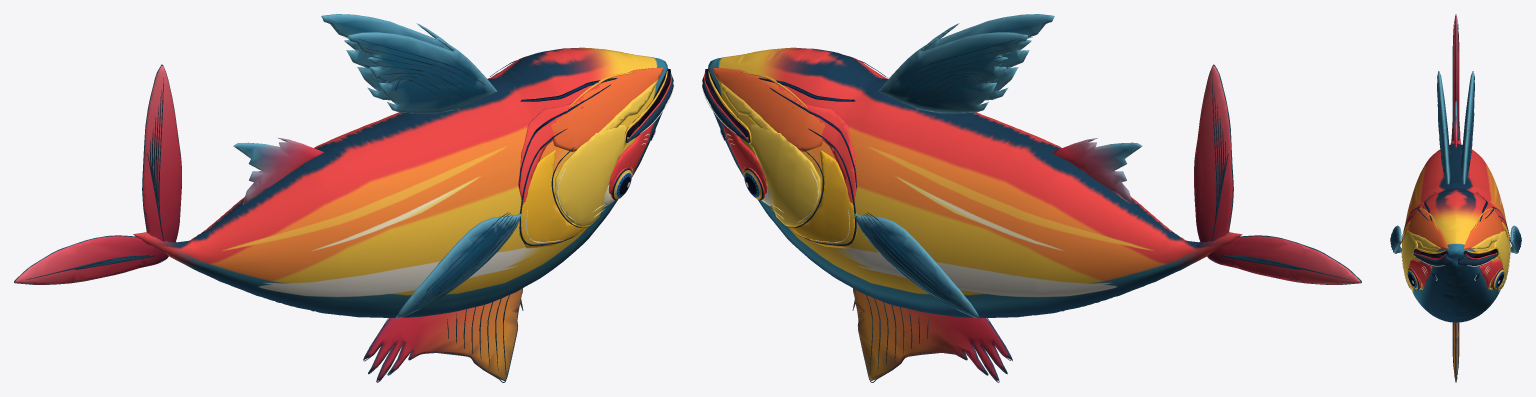
File: hero-tuna.mobile.glb
The picture shows the model from 3 angles, left to right: view 1: azimuth 30°, elevation 25°; view 2: azimuth 150°, elevation 25°; view 3: azimuth 270°, elevation 25°; orthographic projection. The views are drawn at different scales.
Visible parts, largest first — view 1: Web Painted body, Web Painted fin membranes, Web Painted fin membranes.001, Web Anatomy operculum, Web Anatomy jaw, Web Anatomy suboperculum, Web Fin ray pigment, Web Anatomy membrane, Web Anatomy ink, Web Fin ray pigment.001, Web Anatomy brow, Web Glazed fin edges.001 (+1 smaller); view 2: Web Painted body, Web Painted fin membranes, Web Painted fin membranes.001, Web Anatomy operculum, Web Anatomy jaw, Web Anatomy suboperculum, Web Fin ray pigment, Web Anatomy membrane, Web Anatomy ink, Web Fin ray pigment.001, Web Anatomy brow, Web Glazed fin edges.001 (+1 smaller); view 3: Web Painted body, Web Painted fin membranes, Web Anatomy jaw, Web Anatomy operculum, Web Fin ray pigment, Web Anatomy brow, Web Painted fin membranes.001, Web Anatomy maxilla, Web Anatomy ink, Web Anatomy gold, Web Anatomy mouth, Web Anatomy membrane (+6 smaller).
Part boxes in pixels (x1,y1,x2,y2): Web Painted body: (133, 47, 668, 317); Web Painted fin membranes: (233, 14, 523, 381); Web Painted fin membranes.001: (15, 66, 181, 284); Web Anatomy operculum: (555, 124, 628, 226); Web Anatomy jaw: (551, 67, 663, 151); Web Anatomy suboperculum: (519, 149, 586, 248); Web Fin ray pigment: (345, 37, 518, 375); Web Anatomy membrane: (518, 86, 599, 204); Web Anatomy ink: (490, 60, 655, 245); Web Fin ray pigment.001: (26, 78, 164, 279); Web Anatomy brow: (609, 123, 653, 199); Web Glazed fin edges.001: (14, 64, 181, 284); Web Painted body: (708, 47, 1242, 317); Web Painted fin membranes: (852, 14, 1142, 381); Web Painted fin membranes.001: (1194, 66, 1360, 284); Web Anatomy operculum: (747, 124, 820, 226); Web Anatomy jaw: (712, 67, 825, 151); Web Anatomy suboperculum: (789, 149, 856, 248); Web Fin ray pigment: (857, 37, 1032, 374); Web Anatomy membrane: (778, 86, 857, 204); Web Anatomy ink: (720, 60, 887, 245); Web Fin ray pigment.001: (1211, 77, 1349, 279); Web Anatomy brow: (722, 123, 766, 199); Web Glazed fin edges.001: (1194, 64, 1361, 284); Web Painted body: (1405, 122, 1506, 322); Web Painted fin membranes: (1391, 71, 1521, 381); Web Anatomy jaw: (1407, 209, 1504, 248); Web Anatomy operculum: (1402, 231, 1509, 289); Web Fin ray pigment: (1390, 77, 1521, 378); Web Anatomy brow: (1408, 259, 1502, 288); Web Painted fin membranes.001: (1453, 15, 1459, 130); Web Anatomy maxilla: (1414, 254, 1497, 266); Web Anatomy ink: (1401, 192, 1510, 289); Web Anatomy gold: (1411, 233, 1500, 249); Web Anatomy mouth: (1413, 249, 1498, 260); Web Anatomy membrane: (1404, 202, 1507, 230).
Size of the model in its own units: 1.31 by 0.7654 by 0.3506.
Materials: 23 (1 with a texture image).
